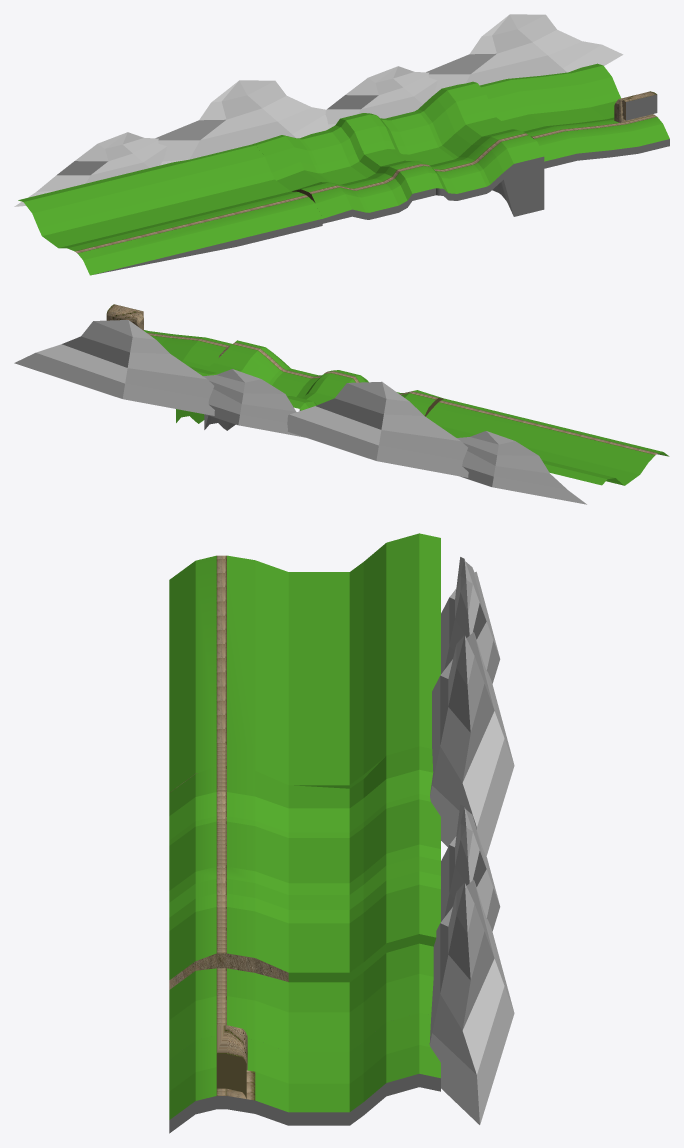
Rendered from meadow.fbx.
The picture shows the model from 3 angles, top to bottom: view 1: azimuth 30°, elevation 25°; view 2: azimuth 150°, elevation 25°; view 3: azimuth 270°, elevation 25°; orthographic projection. The views are drawn at different scales.
Visible parts, largest first — view 1: Mesh (22); view 2: Mesh (22); view 3: Mesh (22).
Part boxes in pixels (<box>): Mesh (22): <box>14,14,669,275</box>; Mesh (22): <box>14,304,669,504</box>; Mesh (22): <box>169,533,514,1133</box>.
Bounding box in the file's own units: 189634 × 37282 × 48998.
Materials: 24 (2 with a texture image).
